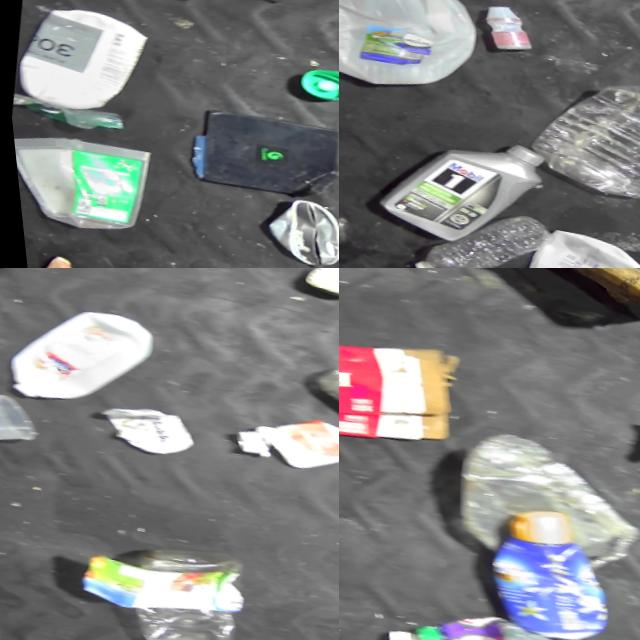can: (241, 187, 339, 268), (294, 268, 339, 307)
milk_jug: (0, 294, 159, 421), (339, 0, 491, 94)
non_white_jug: (364, 123, 556, 247), (460, 499, 619, 640)
plastic_bottle: (518, 62, 640, 204), (107, 537, 249, 640), (399, 195, 549, 268), (295, 354, 339, 473)
